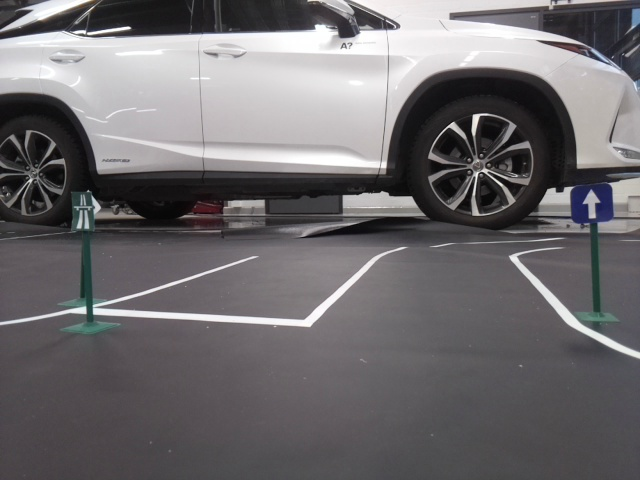OneWay: (571, 184, 611, 222)
